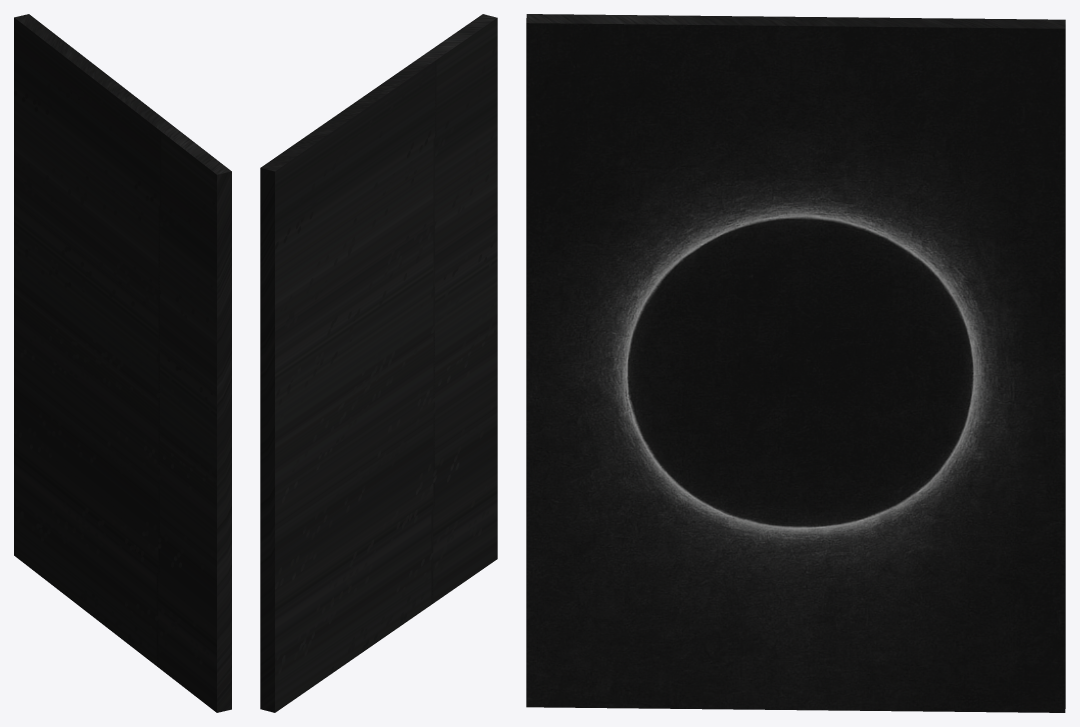
The model's file is 3d eclipse canva.glb.
The picture shows the model from 3 angles, left to right: view 1: azimuth 30°, elevation 25°; view 2: azimuth 150°, elevation 25°; view 3: azimuth 270°, elevation 25°; orthographic projection. The views are drawn at different scales.
Visible parts, largest first — view 1: world; view 2: world; view 3: world.
Part boxes in pixels (x1,y1,x2,y2): world: (14, 14, 231, 712); world: (260, 14, 497, 712); world: (526, 14, 1065, 712).
Size of the model in its own units: 0.0648 by 1.39 by 0.997.
Materials: 1 (1 with a texture image).
